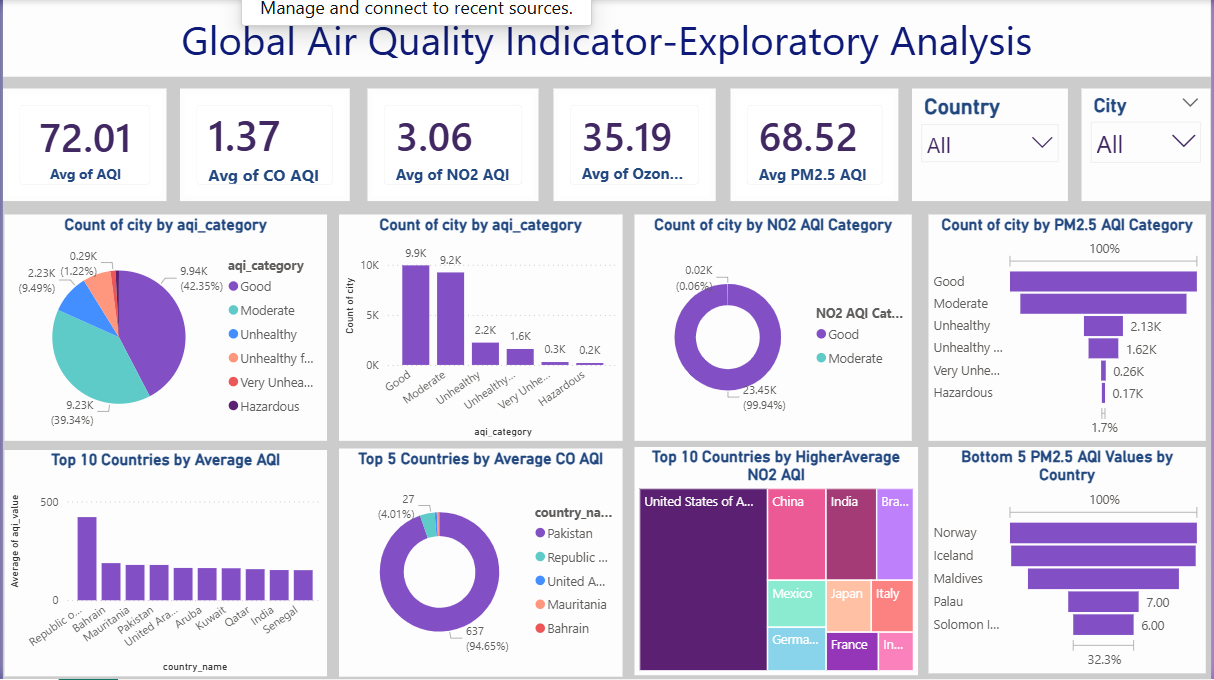

What the dashboard file says about the page in this screenshot:
{"tool":"powerbi","page":{"name":"Page 1","canvas":[1280,720],"ordinal":0},"visuals":[{"type":"textbox","box":[0,0,1280.4,81.1],"z":0},{"type":"cardVisual","fields":{"Data":["Avg(air_pollution.aqi_value)"]},"box":[0,93.8,173.4,119.3],"z":1},{"type":"cardVisual","fields":{"Data":["Avg(air_pollution.co_aqi_value)"]},"box":[187.7,93.8,179.7,119.3],"z":2},{"type":"cardVisual","fields":{"Data":["Avg(air_pollution.no2_aqi_value)"]},"box":[386.5,93.8,181.3,119.3],"z":3},{"type":"cardVisual","fields":{"Data":["Avg(air_pollution.ozone_aqi_value)"]},"box":[583.8,93.8,171.8,119.3],"z":4},{"type":"cardVisual","fields":{"Data":["Avg(air_pollution.pm2.5_aqi_value)"]},"box":[771.4,93.8,178.1,119.3],"z":5},{"type":"slicer","fields":{"Values":["air_pollution.city_name"]},"box":[1143.6,93.8,136.8,119.3],"z":6},{"type":"slicer","fields":{"Values":["air_pollution.country_name"]},"box":[963.9,93.8,165.4,119.3],"z":7},{"type":"pieChart","fields":{"Category":["air_pollution.aqi_category"],"Y":["CountNonNull(air_pollution.city_name)"]},"box":[1.6,227.5,342,240.2],"z":8},{"type":"clusteredColumnChart","fields":{"Category":["air_pollution.aqi_category"],"Y":["CountNonNull(air_pollution.city_name)"]},"box":[356.3,227.5,300.6,240.2],"z":9},{"type":"donutChart","fields":{"Category":["air_pollution.no2_aqi_category"],"Y":["CountNonNull(air_pollution.city_name)"]},"box":[669.6,227.5,294.3,240.2],"z":10},{"type":"funnel","fields":{"Category":["air_pollution.pm2.5_aqi_category"],"Y":["CountNonNull(air_pollution.city_name)"]},"box":[981.4,227.5,294.3,240.2],"z":11},{"type":"columnChart","title":"Top 10 Countries by Average AQI","fields":{"Category":["air_pollution.country_name"],"Y":["Avg(air_pollution.aqi_value)"]},"box":[2,477,342,240],"z":12},{"type":"donutChart","title":"Top 5 Countries by Average CO AQI","fields":{"Category":["air_pollution.country_name"],"Y":["Sum(air_pollution.co_aqi_value)"]},"box":[356.3,475.6,300.6,241.8],"z":13},{"type":"treemap","title":"Top 10 Countries by HigherAverage NO2 AQI","fields":{"Group":["air_pollution.country_name"],"Values":["Sum(air_pollution.no2_aqi_value)"]},"box":[669,474.3,300.5,241.9],"z":14},{"type":"funnel","title":"Bottom 5 PM2.5 AQI Values by Country","fields":{"Category":["air_pollution.country_name"],"Y":["Avg(air_pollution.pm2.5_aqi_value)"]},"box":[981.4,474,294.3,240.2],"z":15}]}

Visuals, with their boxes on the page's 1280x720 design canvas (x1, y1, x2, y2). These are canvas units, not pixel positions in the 1214x680 screenshot, which may show the page scaled, cropped or inside an application window:
textbox: (0, 0, 1280, 81)
cardVisual - Avg(air_pollution.aqi_value): (0, 94, 173, 213)
cardVisual - Avg(air_pollution.co_aqi_value): (188, 94, 367, 213)
cardVisual - Avg(air_pollution.no2_aqi_value): (386, 94, 568, 213)
cardVisual - Avg(air_pollution.ozone_aqi_value): (584, 94, 756, 213)
cardVisual - Avg(air_pollution.pm2.5_aqi_value): (771, 94, 950, 213)
slicer - air_pollution.city_name: (1144, 94, 1280, 213)
slicer - air_pollution.country_name: (964, 94, 1129, 213)
pieChart - air_pollution.aqi_category x CountNonNull(air_pollution.city_name): (2, 228, 344, 468)
clusteredColumnChart - air_pollution.aqi_category x CountNonNull(air_pollution.city_name): (356, 228, 657, 468)
donutChart - air_pollution.no2_aqi_category x CountNonNull(air_pollution.city_name): (670, 228, 964, 468)
funnel - air_pollution.pm2.5_aqi_category x CountNonNull(air_pollution.city_name): (981, 228, 1276, 468)
"Top 10 Countries by Average AQI" columnChart: (2, 477, 344, 717)
"Top 5 Countries by Average CO AQI" donutChart: (356, 476, 657, 717)
"Top 10 Countries by HigherAverage NO2 AQI" treemap: (669, 474, 970, 716)
"Bottom 5 PM2.5 AQI Values by Country" funnel: (981, 474, 1276, 714)
